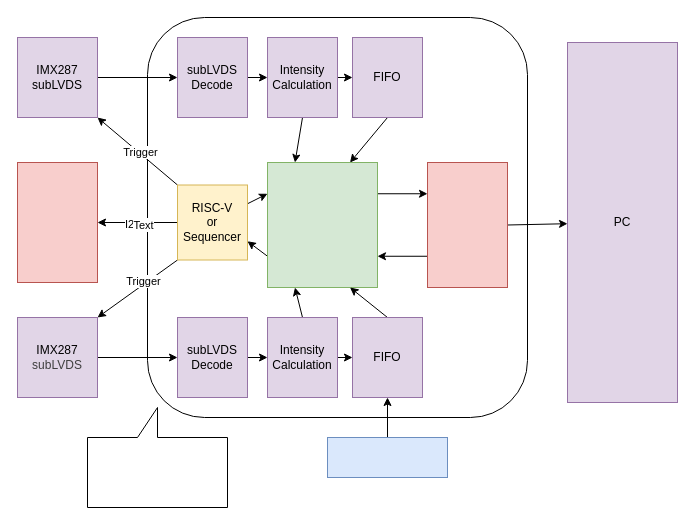
This 695x525 diagram has some shape labels left out. Here are the shapes that lost their labels. From the top down, the box of each, then its label:
(16, 162, 98, 282): LED x 3 Control Board
(266, 162, 378, 288): Data Aggregator
(426, 162, 508, 288): USB3
(86, 406, 228, 508): FPGA: ECP5 efinix Gatemate
(326, 436, 448, 478): DDR
